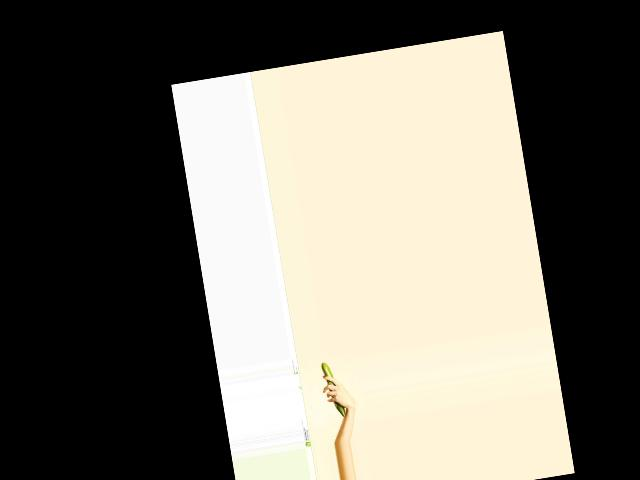cucumber: (320, 360, 345, 419)
